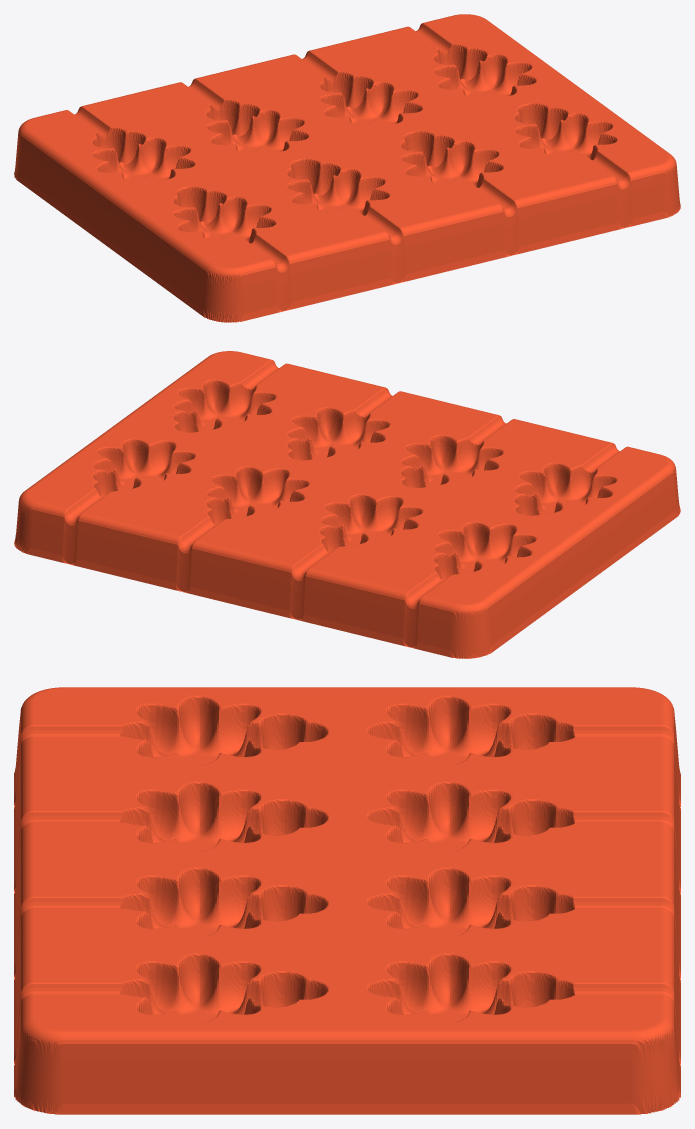
File: mold.glb
3 views of the same model, one above another, from view 1: azimuth 30°, elevation 25°; view 2: azimuth 150°, elevation 25°; view 3: azimuth 270°, elevation 25° (orthographic). The views are drawn at different scales.
Parts seen in each view (by area): view 1: geometry_0; view 2: geometry_0; view 3: geometry_0.
Boxes of the visible parts, x1,y1,x2,y2 form: geometry_0: [14, 14, 680, 322]; geometry_0: [14, 351, 680, 658]; geometry_0: [14, 687, 680, 1114].
Size of the model in its own units: 0.1562 by 0.0155 by 0.1229.
